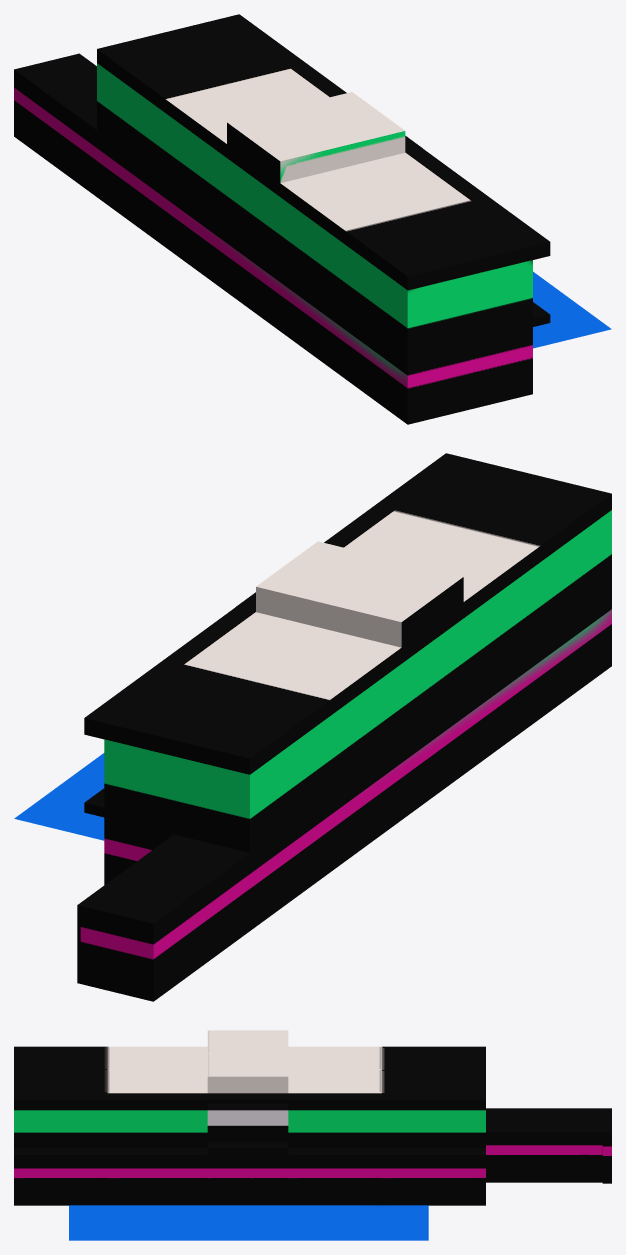
The model's file is house 3 do 11 .fbx.
3 views of the same model, one above another, from view 1: azimuth 30°, elevation 25°; view 2: azimuth 150°, elevation 25°; view 3: azimuth 270°, elevation 25° (orthographic). The views are drawn at different scales.
Visible parts, largest first — view 1: Cube; view 2: Cube; view 3: Cube.
Part boxes in pixels (x1,y1,x2,y2): Cube: (14,14,611,424); Cube: (14,453,611,1001); Cube: (14,1030,611,1240).
Bounding box in the file's own units: 1154 × 780 × 3273.
